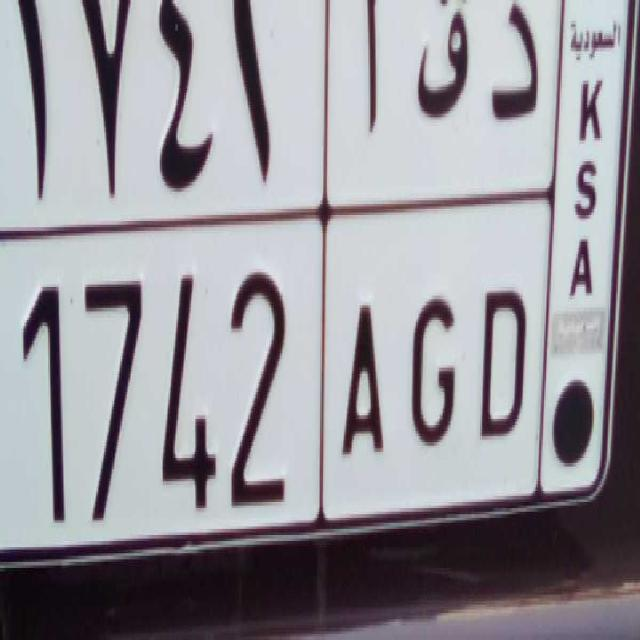license_plate: (11, 216, 538, 543)
